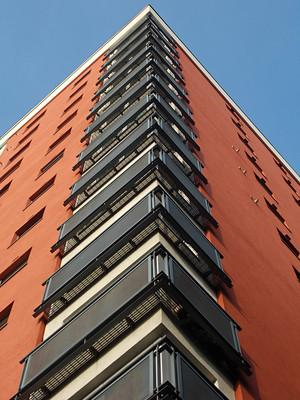building: (0, 0, 298, 398)
